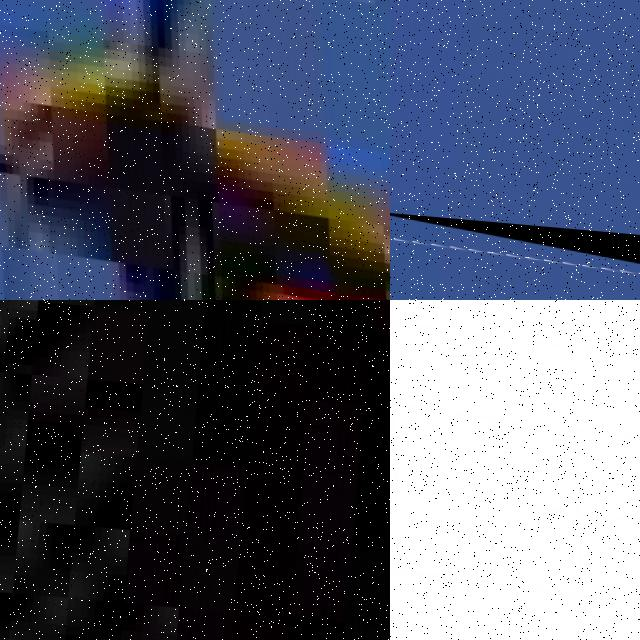0: (0, 0, 390, 300), (390, 210, 640, 300)
drone: (390, 300, 640, 640)
